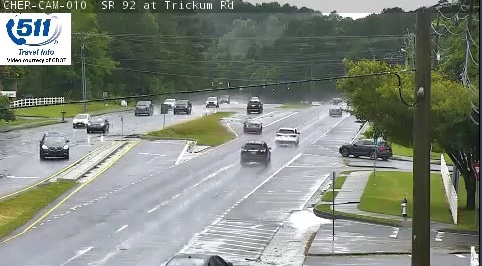car: (242, 140, 270, 163), (275, 128, 298, 143), (243, 119, 262, 132)
